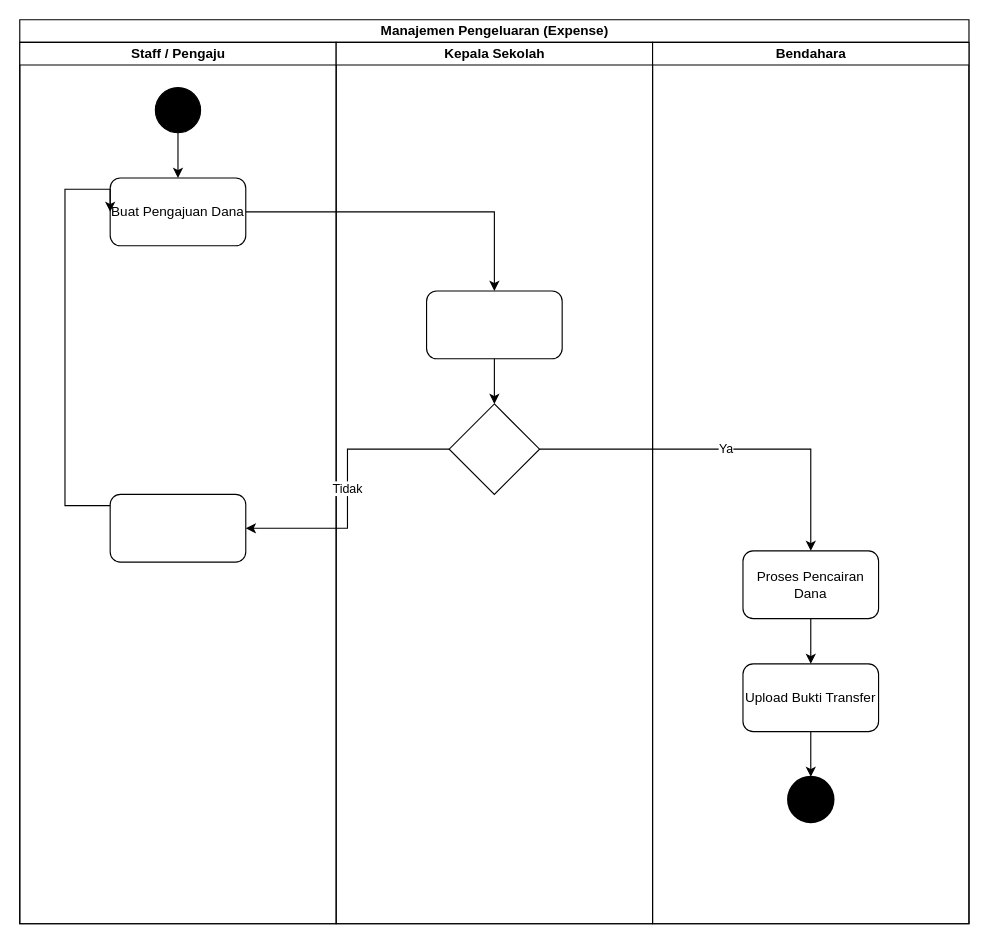
Some shapes in this 989 by 944 pixel diagram are drawn without their labels. The shapes that lost their labels are listed below. From the top down, each one's centre as x and y in pixels, then its label:
At point 493,324: "Review Pengajuan".
At point 494,448: "Setuju?".
At point 177,527: "Terima Notifikasi / Revisi".
